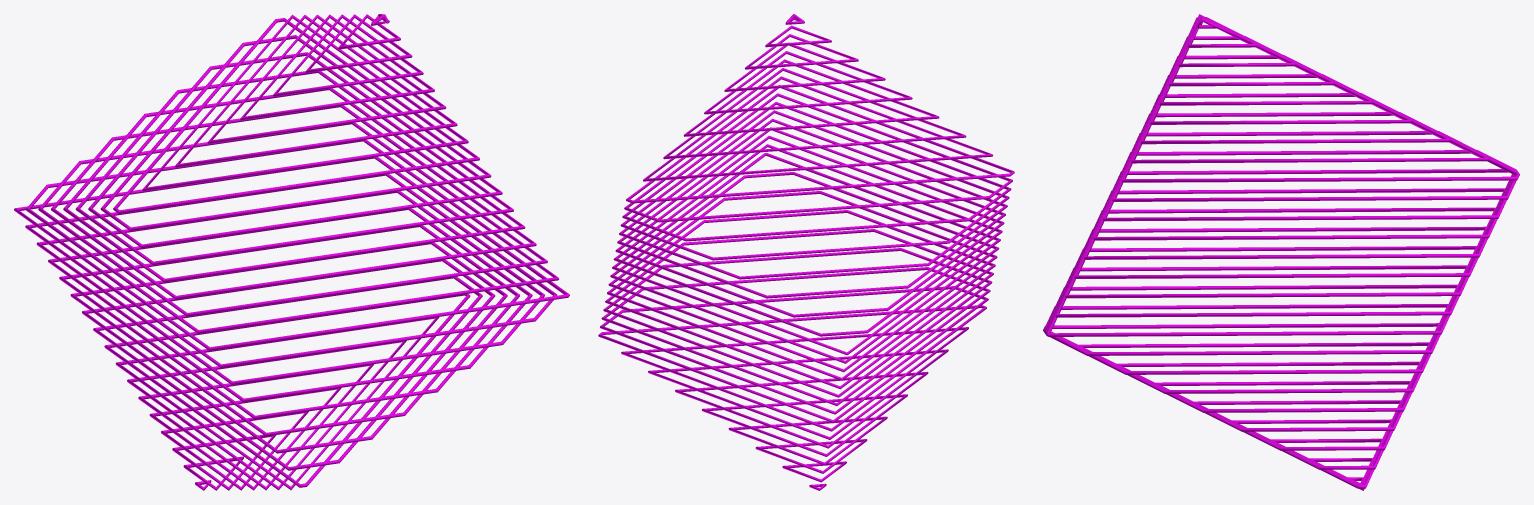
File: 1stAni.glb
3 views of the same model, side by side, from view 1: azimuth 30°, elevation 25°; view 2: azimuth 150°, elevation 25°; view 3: azimuth 270°, elevation 25° (orthographic). The views are drawn at different scales.
Visible parts, largest first — view 1: Cube.018, Cube.017, Cube.016, Cube.015, Cube.019, Cube.014, Cube.013, Cube.020, Cube.012, Cube.021, Cube.011, Cube.010 (+17 smaller); view 2: Cube.016, Cube.020, Cube.013, Cube.018, Cube.019, Cube.021, Cube.017, Cube.022, Cube.015, Cube.010, Cube.014, Cube.023 (+17 smaller); view 3: Cube.018, Cube.019, Cube.017, Cube.020, Cube.016, Cube.021, Cube.015, Cube.022, Cube.014, Cube.023, Cube.013, Cube.024 (+17 smaller).
Part boxes in pixels (x1=…): Cube.018: x1=14, y1=156, x2=569, y2=350; Cube.017: x1=26, y1=139, x2=558, y2=333; Cube.016: x1=38, y1=122, x2=547, y2=316; Cube.015: x1=51, y1=105, x2=536, y2=299; Cube.019: x1=25, y1=174, x2=557, y2=367; Cube.014: x1=63, y1=88, x2=525, y2=282; Cube.013: x1=75, y1=71, x2=513, y2=265; Cube.020: x1=36, y1=191, x2=544, y2=384; Cube.012: x1=88, y1=52, x2=502, y2=247; Cube.021: x1=48, y1=208, x2=532, y2=402; Cube.011: x1=100, y1=35, x2=491, y2=230; Cube.010: x1=113, y1=18, x2=479, y2=213; Cube.016: x1=615, y1=135, x2=1004, y2=317; Cube.020: x1=608, y1=191, x2=997, y2=372; Cube.013: x1=620, y1=110, x2=1009, y2=260; Cube.018: x1=612, y1=153, x2=1000, y2=355; Cube.019: x1=610, y1=172, x2=999, y2=363; Cube.021: x1=607, y1=210, x2=995, y2=380; Cube.017: x1=613, y1=144, x2=1002, y2=336; Cube.022: x1=605, y1=229, x2=993, y2=389; Cube.015: x1=617, y1=127, x2=1005, y2=298; Cube.010: x1=626, y1=85, x2=1014, y2=203; Cube.014: x1=619, y1=118, x2=1007, y2=279; Cube.023: x1=603, y1=248, x2=992, y2=397; Cube.018: x1=1046, y1=169, x2=1511, y2=336; Cube.019: x1=1045, y1=188, x2=1504, y2=355; Cube.017: x1=1055, y1=150, x2=1516, y2=317; Cube.020: x1=1045, y1=207, x2=1495, y2=374; Cube.016: x1=1065, y1=131, x2=1516, y2=298; Cube.021: x1=1045, y1=226, x2=1485, y2=393; Cube.015: x1=1074, y1=112, x2=1517, y2=278; Cube.022: x1=1044, y1=246, x2=1476, y2=412; Cube.014: x1=1084, y1=93, x2=1517, y2=259; Cube.023: x1=1044, y1=265, x2=1467, y2=431; Cube.013: x1=1093, y1=74, x2=1517, y2=240; Cube.024: x1=1043, y1=284, x2=1457, y2=450.
Bounding box in the file's own units: 28.69 × 31.99 × 26.71.
